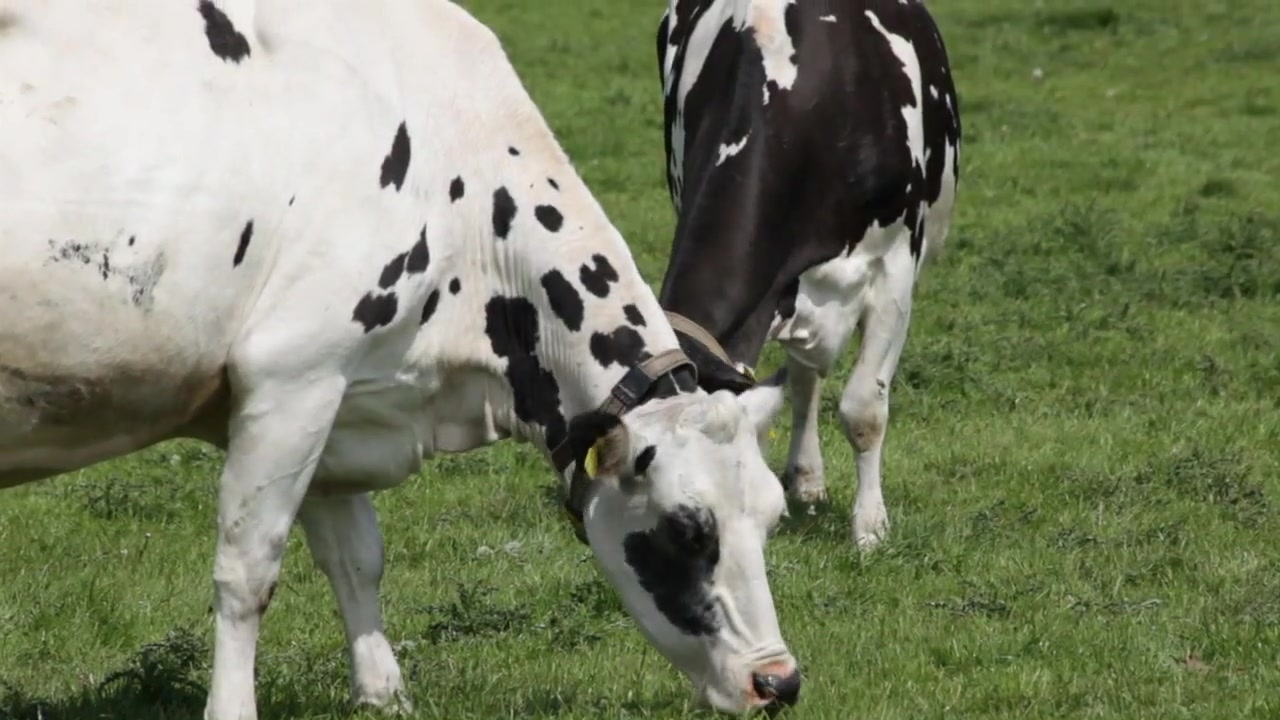cow: (1, 1, 802, 720)
